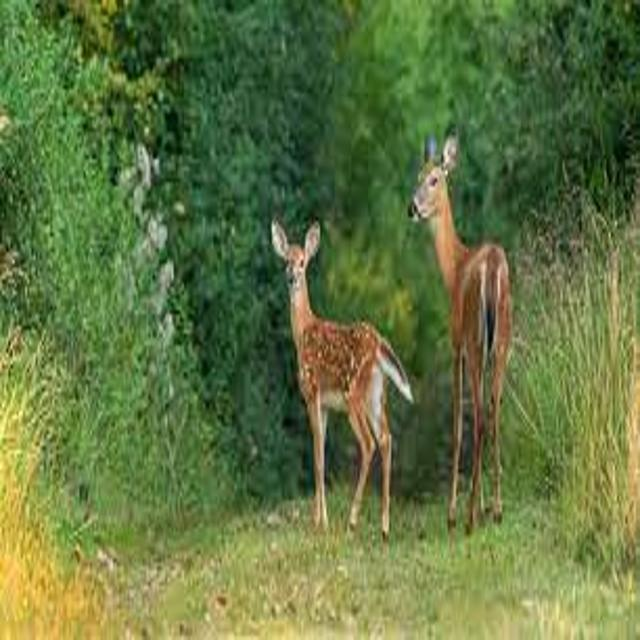Deer: (382, 112, 542, 529), (260, 218, 420, 531)
